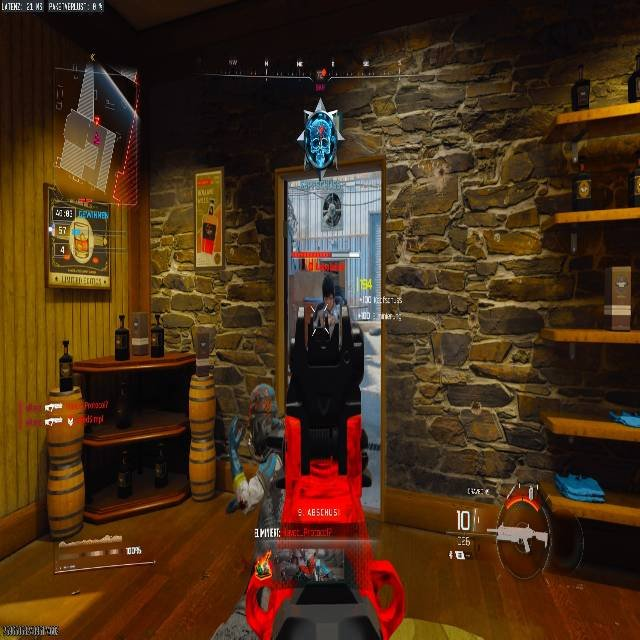head: (321, 273, 339, 303)
player: (307, 275, 347, 321)
